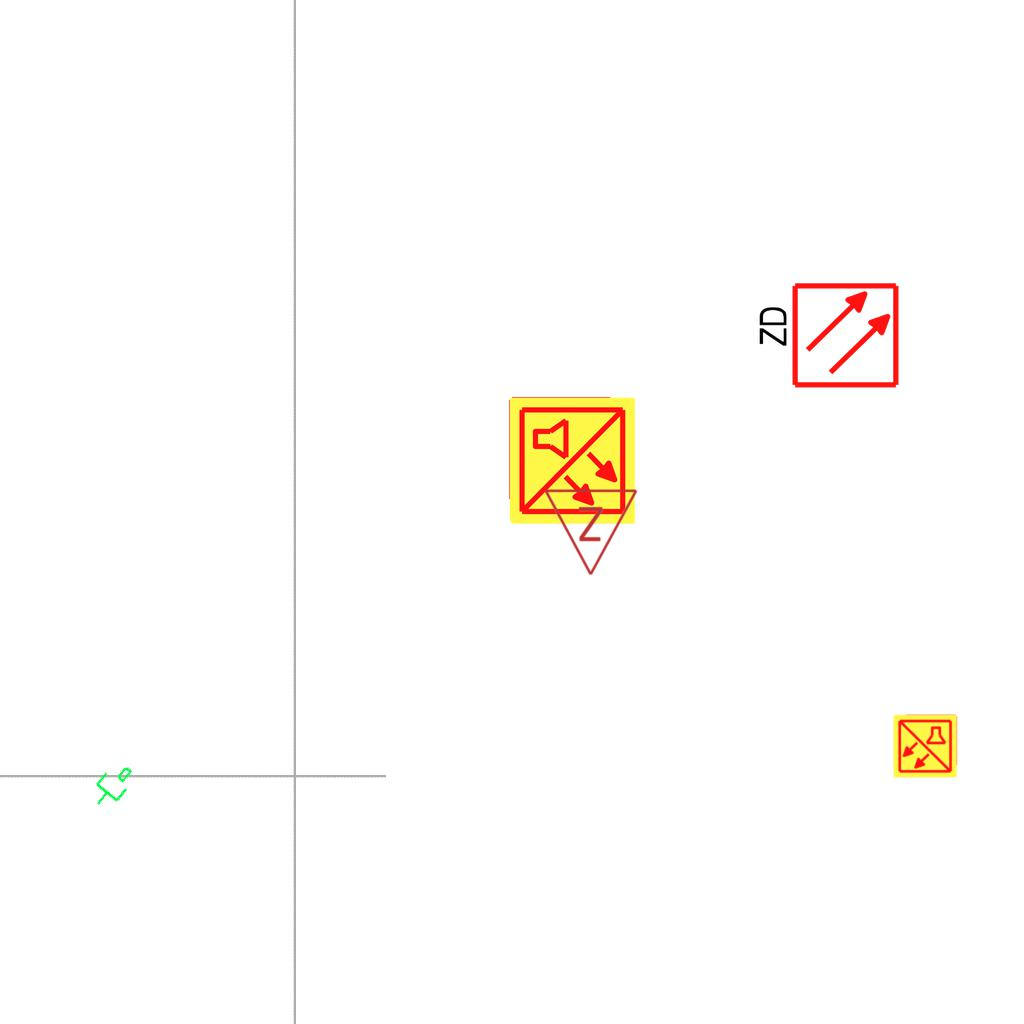Datenanschluss_einfach: (83, 754, 141, 816)
OKW_Multisensormelder_(Kombination_optischer_Rauch-Kahlenmonoxid_Waerme-Melder): (506, 395, 638, 527), (892, 713, 958, 779)
ZD_Melder_in_Zwischendecke_mit_Revisionsoeffnung_mind_40_x_40_cm: (752, 280, 901, 394)
Zimmersignalleuchte: (543, 482, 641, 582)
